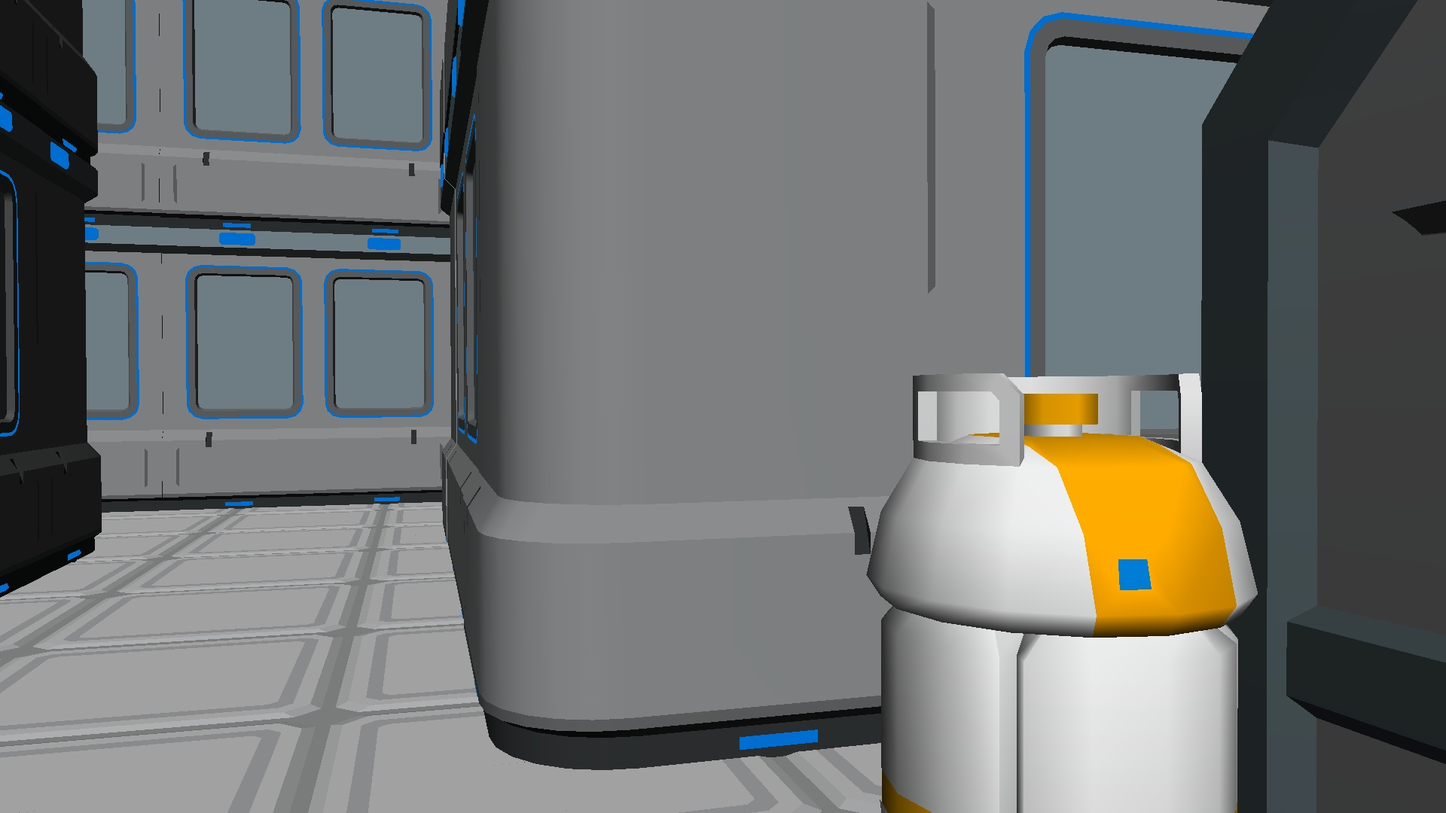yellow barrel: (847, 371, 1258, 813)
